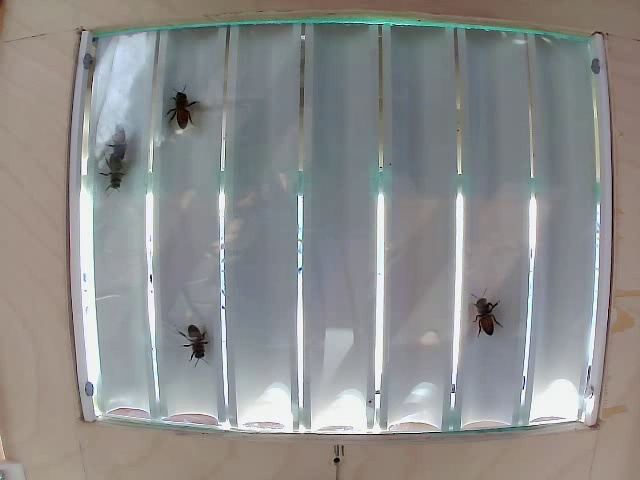bee: (165, 73, 211, 134), (99, 151, 141, 206), (188, 323, 231, 366), (96, 117, 141, 151), (484, 302, 511, 350)
